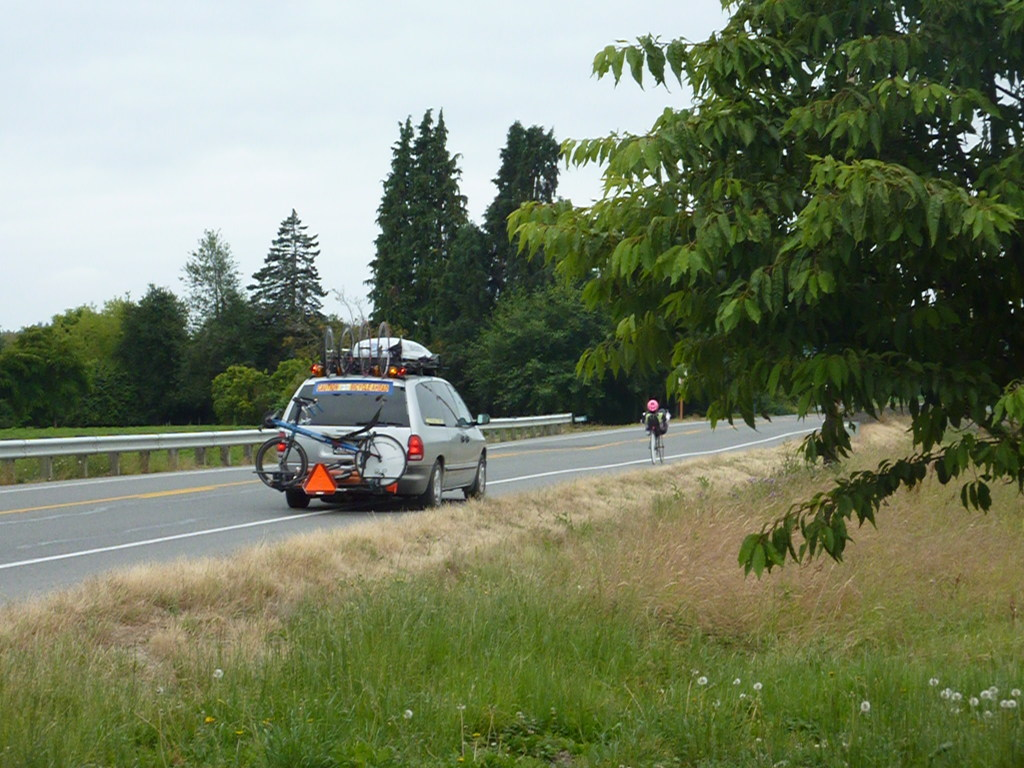Car: (257, 359, 488, 518)
